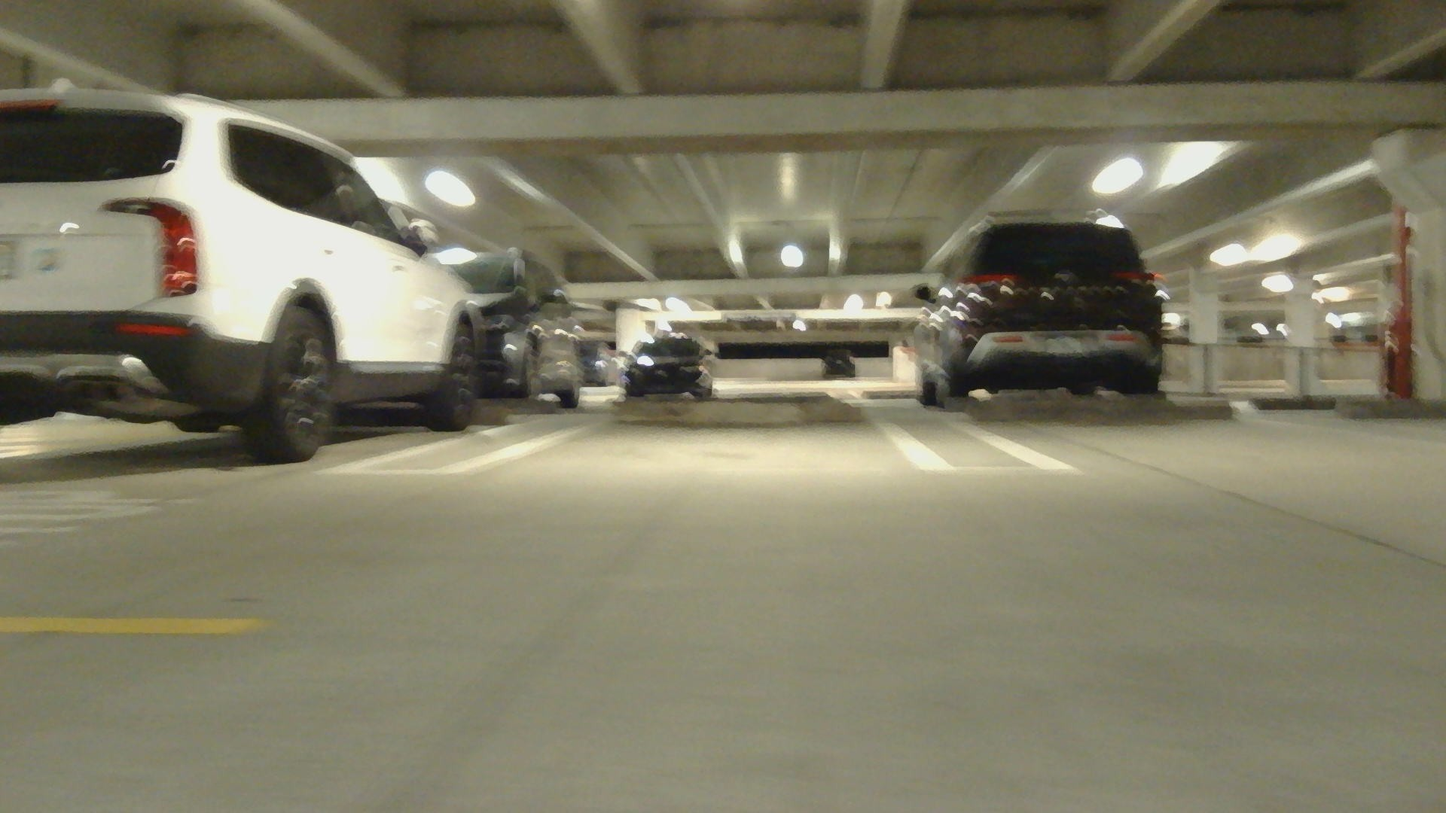empty_spot: (923, 404, 1446, 497), (426, 406, 978, 489)
occupied_spot: (0, 86, 485, 471)
